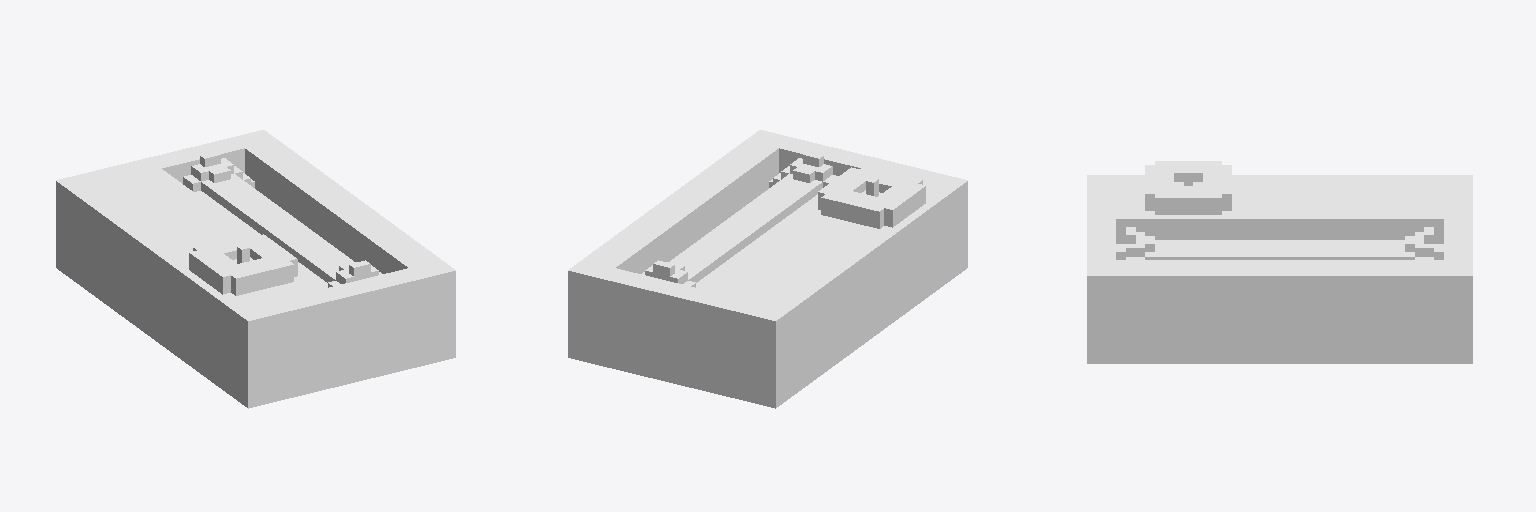
Rendered from HealthKit3.obj.
3 views of the same model, side by side, from view 1: azimuth 30°, elevation 25°; view 2: azimuth 150°, elevation 25°; view 3: azimuth 270°, elevation 25° (orthographic).
Parts seen in each view (by area): view 1: object 1; view 2: object 1; view 3: object 1.
Boxes of the visible parts, x1,y1,x2,y2 form: object 1: [56, 130, 455, 408]; object 1: [568, 130, 967, 408]; object 1: [1087, 161, 1472, 363].
Size of the model in its own units: 2.5 by 1.3 by 4.